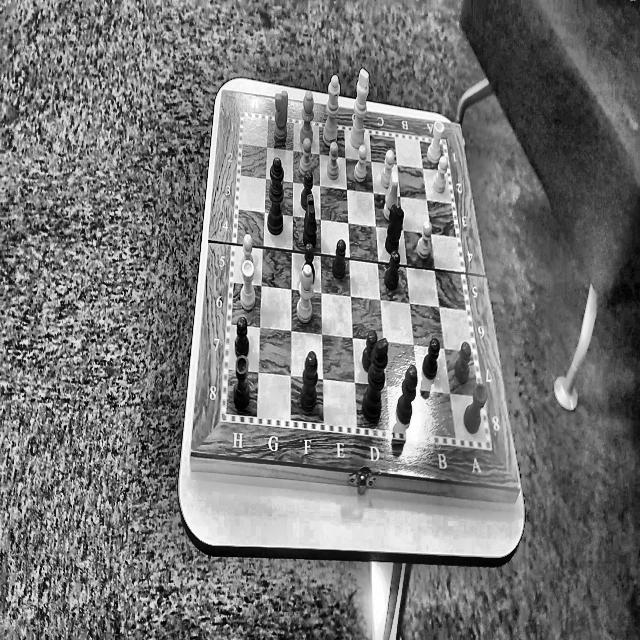chessboard: (226, 116, 486, 442)
